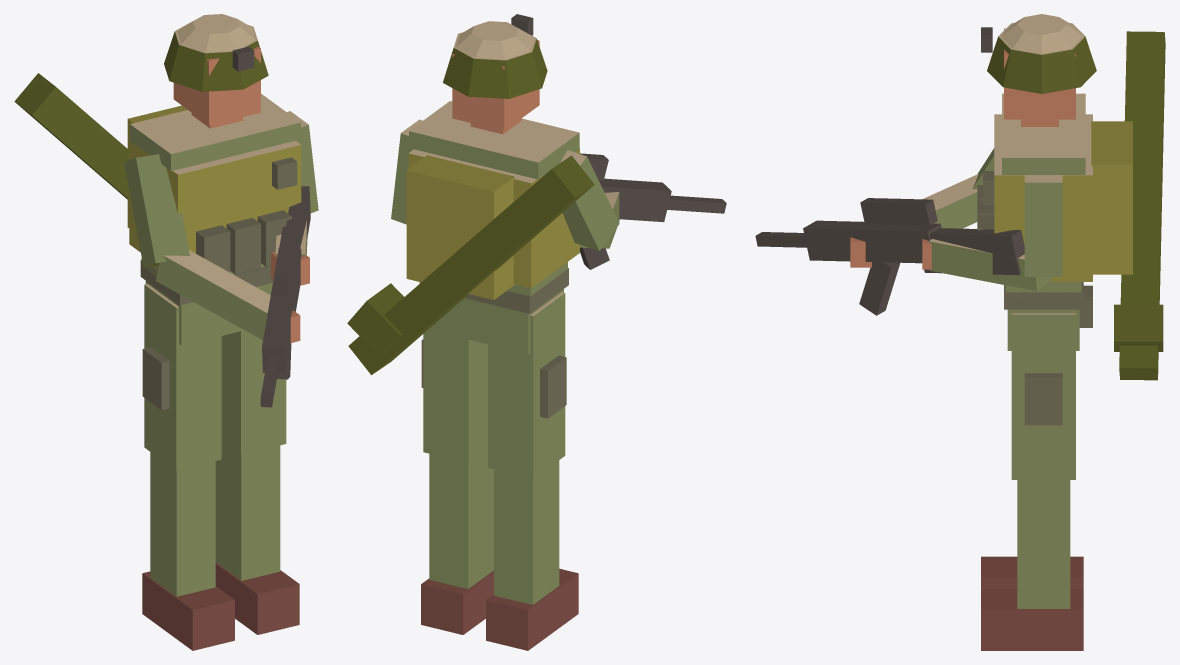
File: SM_SoldadoArmado_v6_G36E_C90_Reposo_LOD0.fbx
3 renders of one model, left to right at view 1: azimuth 30°, elevation 25°; view 2: azimuth 150°, elevation 25°; view 3: azimuth 270°, elevation 25°, orthographic.
Parts seen in each view (by area): view 1: SM_bloques.soldado_armado_v6_LOD0; view 2: SM_bloques.soldado_armado_v6_LOD0; view 3: SM_bloques.soldado_armado_v6_LOD0.
Boxes of the visible parts, <box> form: SM_bloques.soldado_armado_v6_LOD0: <box>14,14,318,650</box>; SM_bloques.soldado_armado_v6_LOD0: <box>347,14,726,650</box>; SM_bloques.soldado_armado_v6_LOD0: <box>755,14,1165,650</box>.
Size of the model in its own units: 0.7276 by 1.75 by 1.08.
